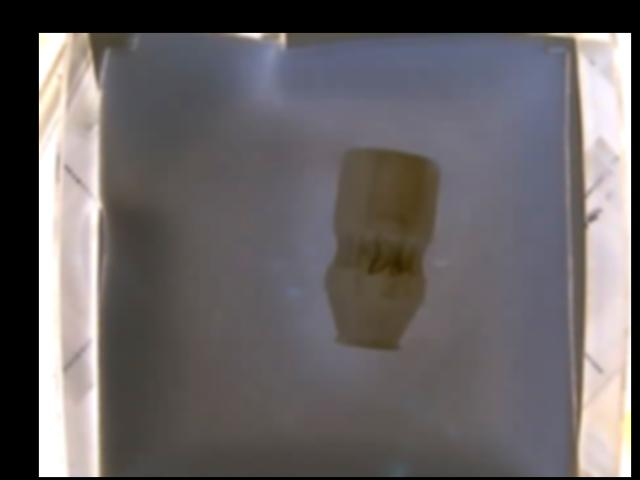Bottle: (324, 145, 441, 348)
